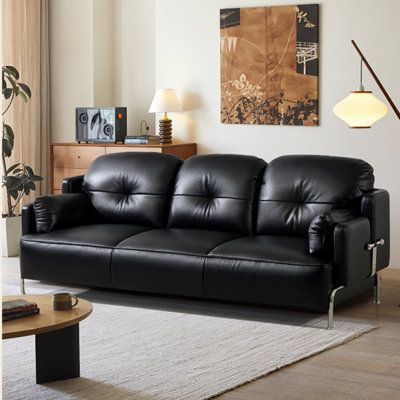3seatersofa: (22, 153, 388, 327)
backrest: (72, 153, 372, 236)
leftarmrest: (309, 190, 389, 299)
leg: (327, 286, 343, 329), (20, 278, 24, 294)
rightarmrest: (22, 176, 98, 234)
seat: (21, 224, 332, 310)
